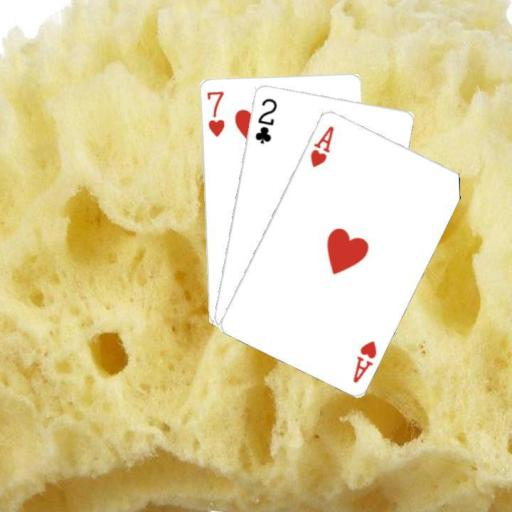2C: (251, 95, 278, 145)
7H: (204, 87, 226, 138)
AH: (349, 337, 378, 384), (307, 123, 336, 169)
